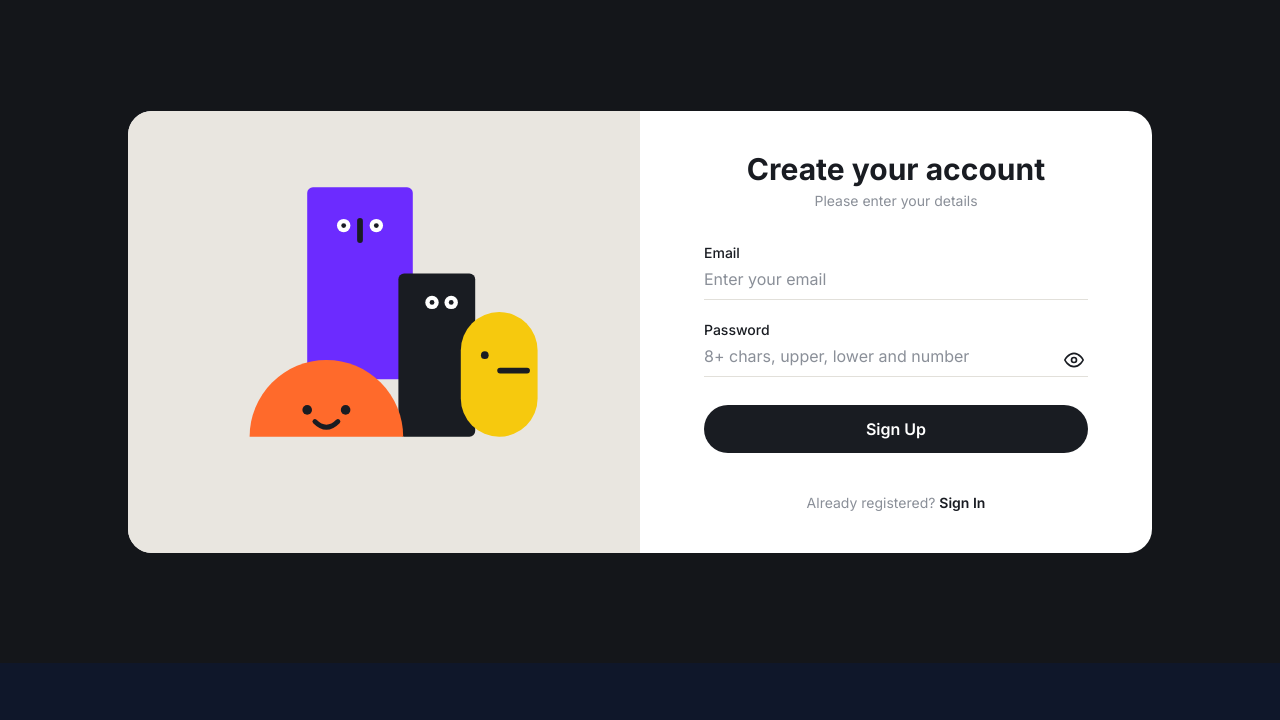
Test case: RegisterPage validation › blocks submission when both fields are empty
Click the button "Sign Up".
click(896, 428)  # box [704,404,1088,452]
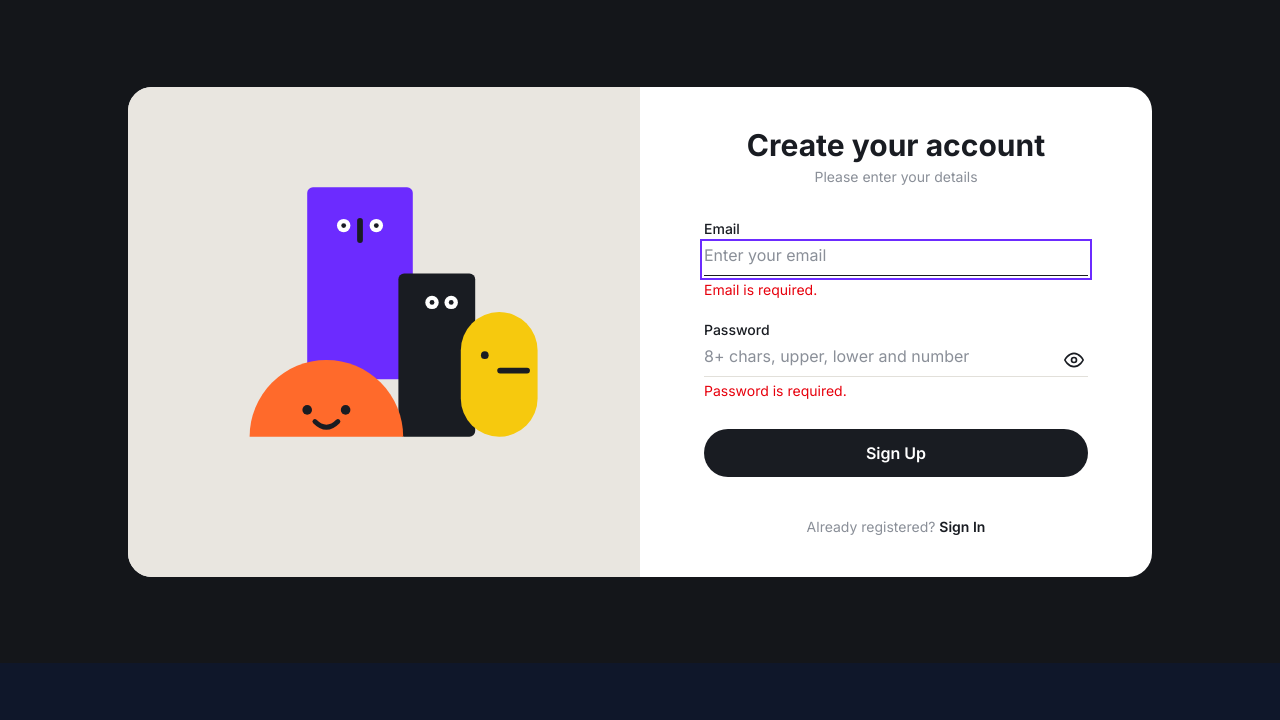
Now the text "Email is required." is shown, box [704,280,817,298]
Now the text "Password is required." is shown, box [704,382,847,398]
